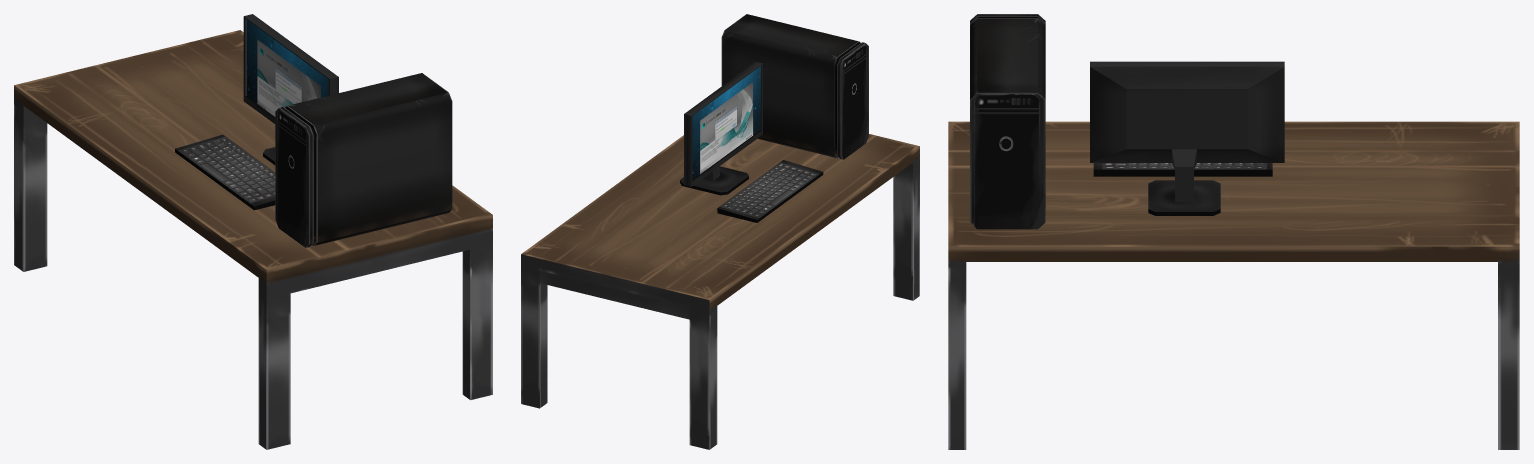
File: desk combined.fbx
3 views of the same model, side by side, from view 1: azimuth 30°, elevation 25°; view 2: azimuth 150°, elevation 25°; view 3: azimuth 270°, elevation 25° (orthographic). The views are drawn at different scales.
Visible parts, largest first — view 1: polySurface97; view 2: polySurface97; view 3: polySurface97.
Part boxes in pixels (x1,y1,x2,y2): polySurface97: (14,14,492,449); polySurface97: (521,14,919,449); polySurface97: (948,14,1519,449).
Size of the model in its own units: 144 by 182 by 278.
